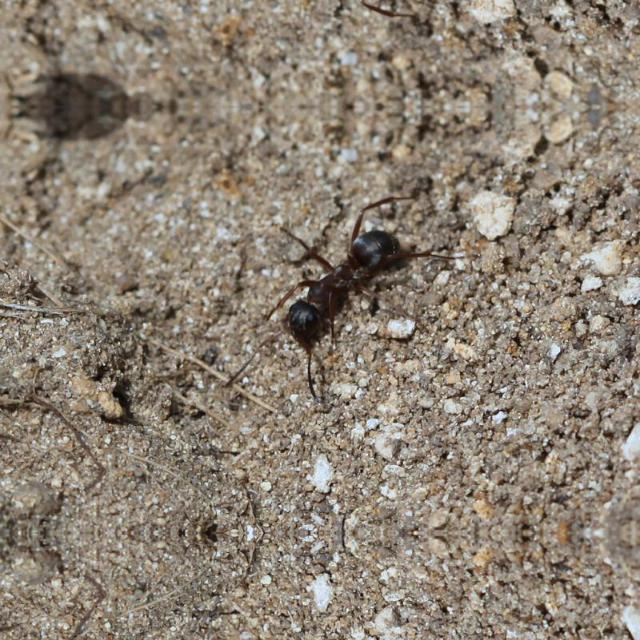Formica: (246, 187, 456, 383)
